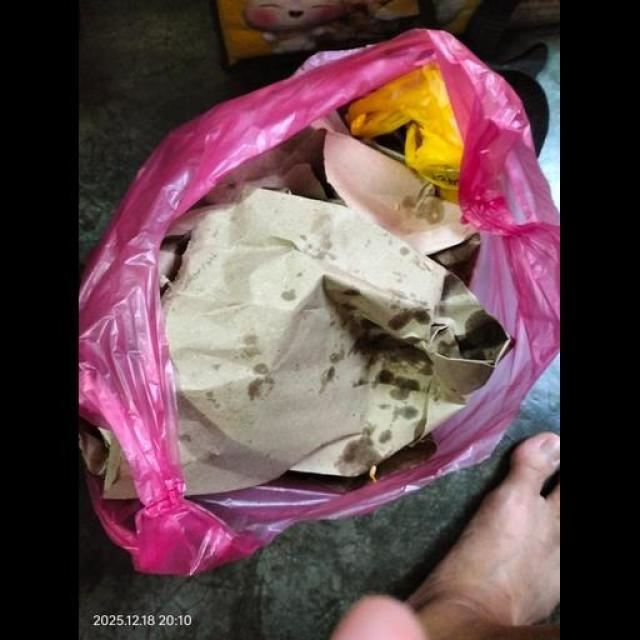organic: (75, 18, 539, 551)
